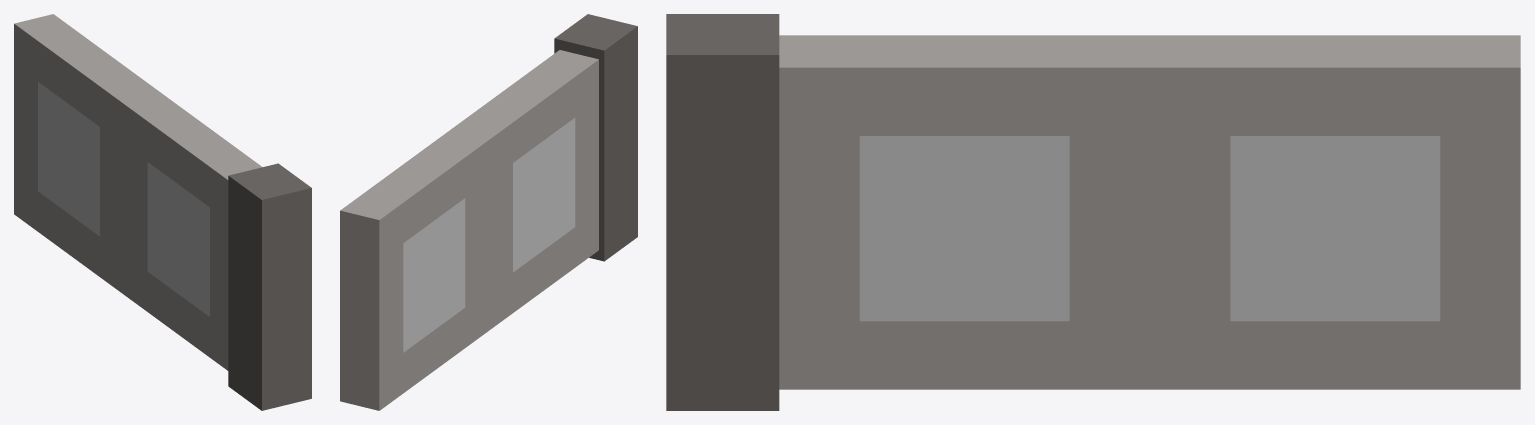
The model's file is paizi.fbx.
The picture shows the model from 3 angles, left to right: view 1: azimuth 30°, elevation 25°; view 2: azimuth 150°, elevation 25°; view 3: azimuth 270°, elevation 25°; orthographic projection. The views are drawn at different scales.
Visible parts, largest first — view 1: pCube24; view 2: pCube24; view 3: pCube24.
Boxes of the visible parts, <box> form: pCube24: <box>14,14,311,410</box>; pCube24: <box>340,14,637,410</box>; pCube24: <box>666,14,1520,410</box>.
Size of the model in its own units: 6.85 by 27.65 by 60.13.
